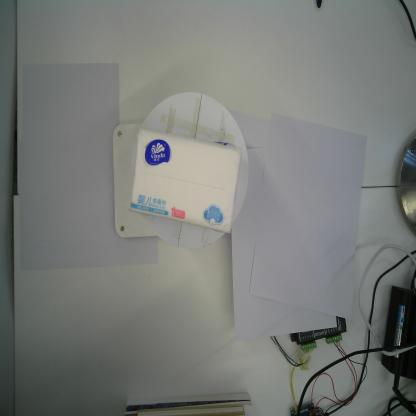Tissue: (128, 126, 242, 236)
